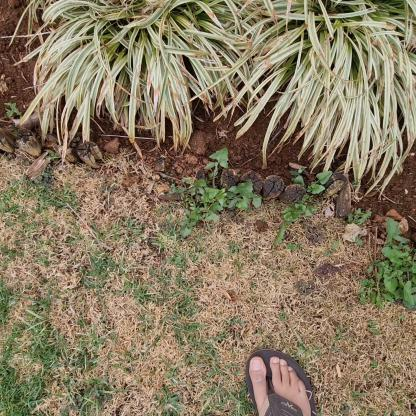Weeds: (169, 147, 264, 241), (358, 216, 415, 310), (272, 167, 333, 248), (347, 208, 372, 246), (4, 101, 22, 118)
